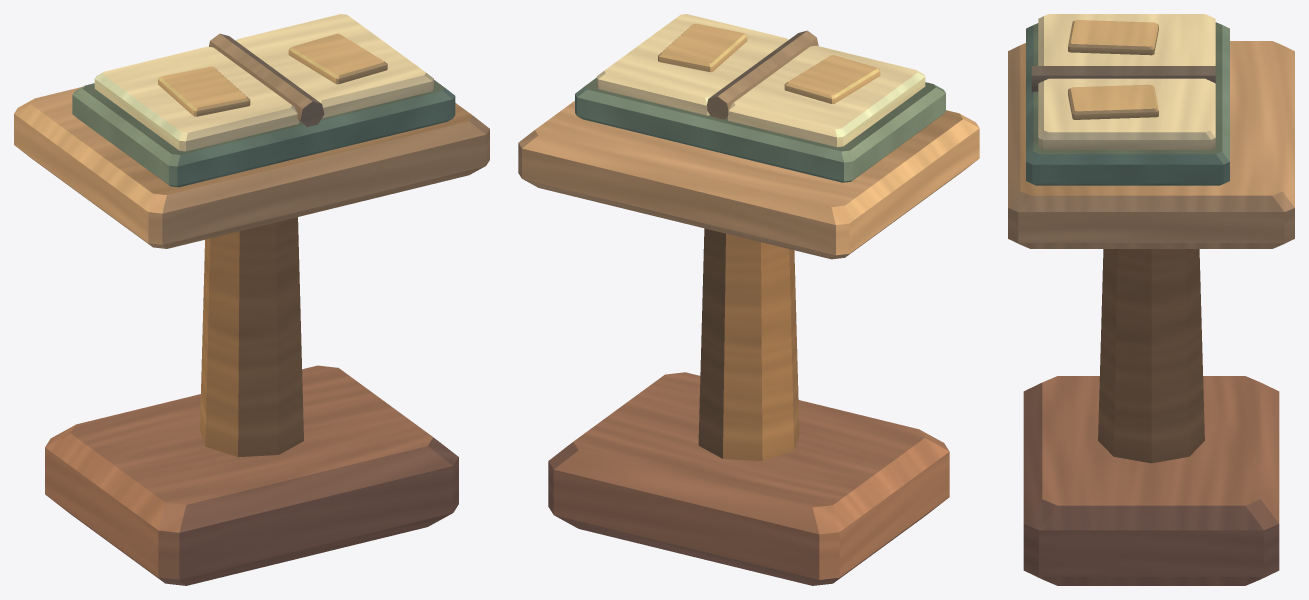
Rendered from card_binder.glb.
3 views of the same model, side by side, from view 1: azimuth 30°, elevation 25°; view 2: azimuth 150°, elevation 25°; view 3: azimuth 270°, elevation 25° (orthographic). The views are drawn at different scales.
Parts seen in each view (by area): view 1: Kartenbinder · Pult und Ledermappe; view 2: Kartenbinder · Pult und Ledermappe; view 3: Kartenbinder · Pult und Ledermappe.
Part boxes in pixels (x1=…): Kartenbinder · Pult und Ledermappe: x1=14, y1=14, x2=489, y2=585; Kartenbinder · Pult und Ledermappe: x1=518, y1=14, x2=979, y2=585; Kartenbinder · Pult und Ledermappe: x1=1008, y1=14, x2=1294, y2=585.
Size of the model in its own units: 0.75 by 0.964 by 0.55.
Materials: 2 (2 with a texture image).
